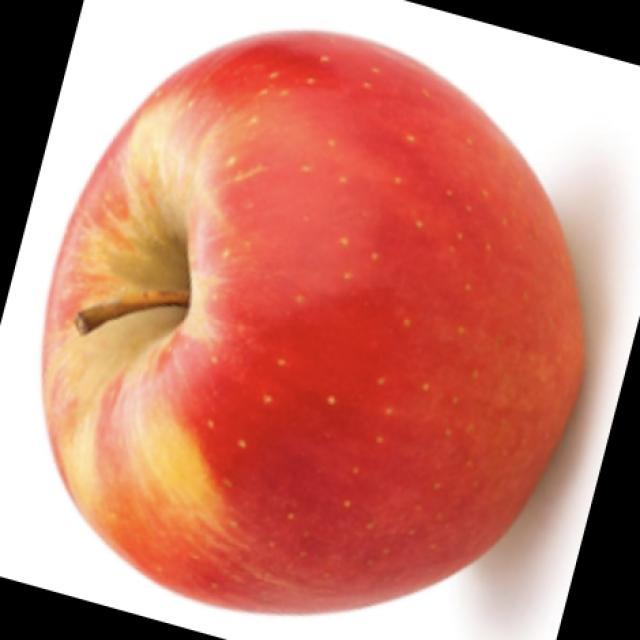Fresh Apple: (34, 30, 568, 607)
